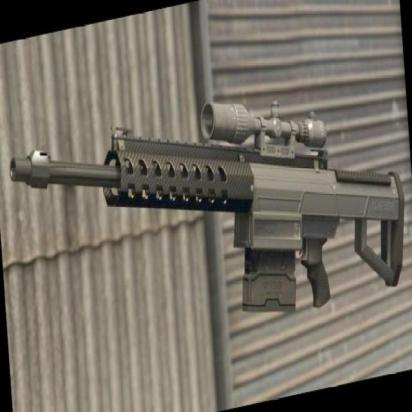Gun: (4, 54, 410, 376)
